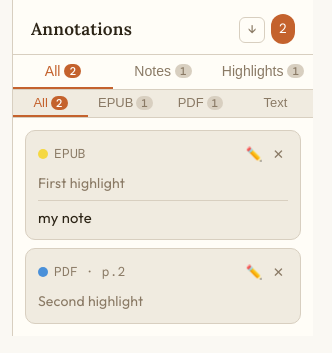
Scenario: Notes tab shows only highlights with notes
What coordinates should you click on to do the following:
click the button "Notes 1"
I would click on:
 (163, 72)
Its box is [113,55,213,89].
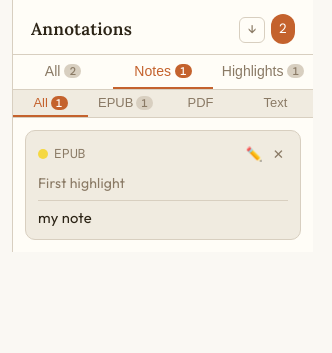
Expected: the text "First highlight" is shown, [38,174,125,192]
Expected: the text "Second highlight" is gone
